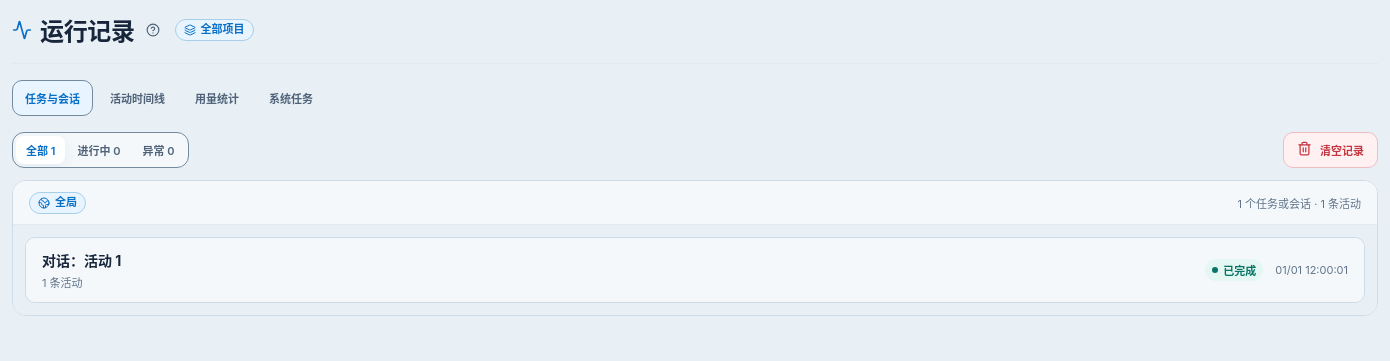
ActivityPanel › clears a filter that has no matching activity
Step 1. Click the button "进行中 0" → (99, 150), box [67,136,130,164]
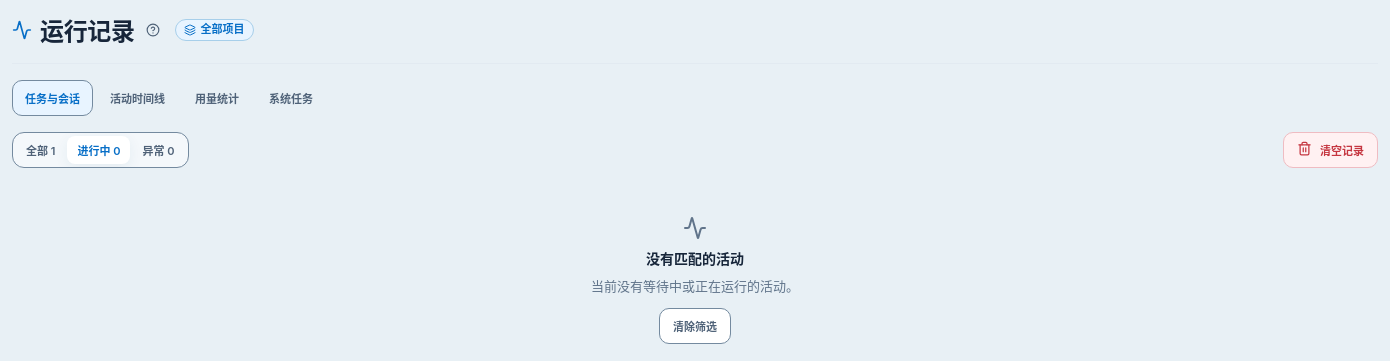
Expected: the text "没有匹配的活动" is shown, [646,248,744,268]
Step 2. Click the button "清除筛选" → (695, 326), box [659,308,731,344]
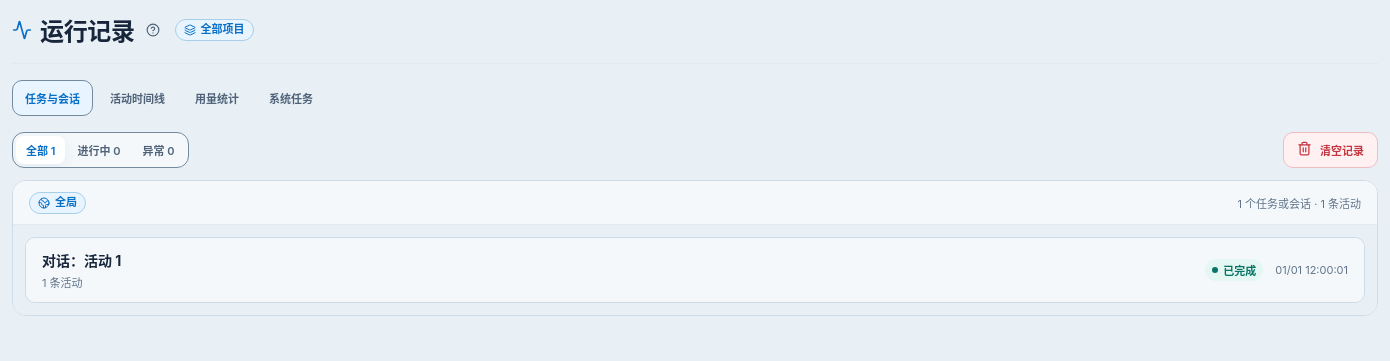
Expected: the text "对话：活动 1" is shown, [42,252,121,269]
